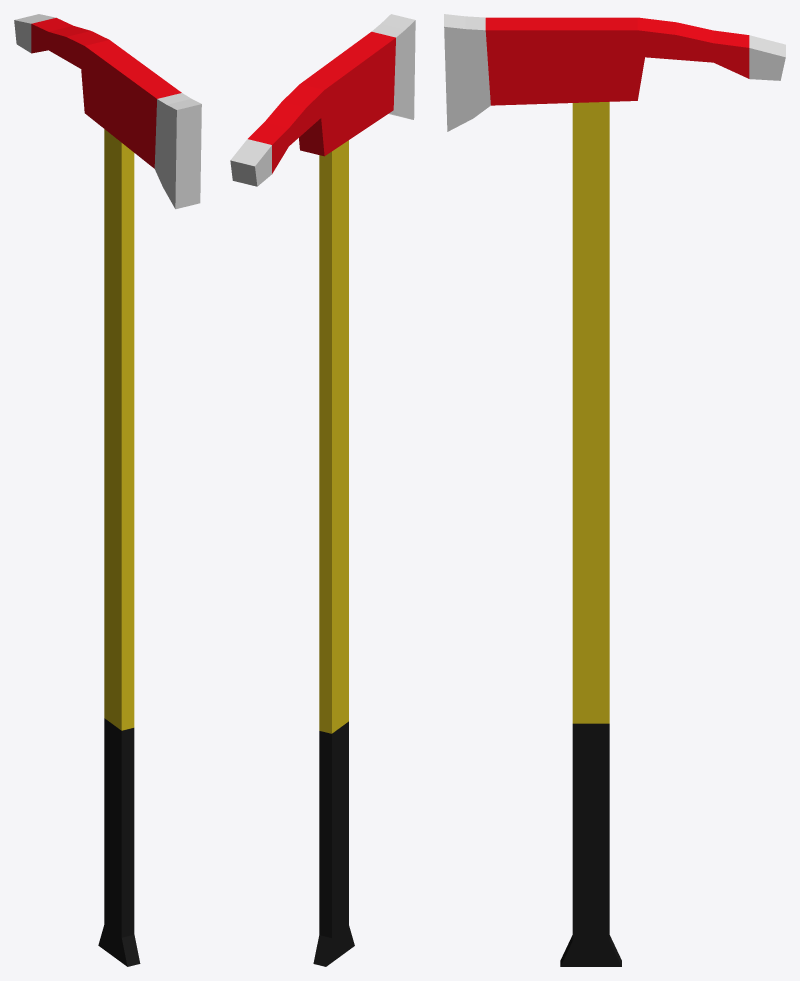
File: axe.glb
The picture shows the model from 3 angles, left to right: view 1: azimuth 30°, elevation 25°; view 2: azimuth 150°, elevation 25°; view 3: azimuth 270°, elevation 25°; orthographic projection. The views are drawn at different scales.
Visible parts, largest first — view 1: Рукоятка, Рубила; view 2: Рукоятка, Рубила; view 3: Рукоятка, Рубила.
Part boxes in pixels (x1=…): Рукоятка: x1=98, y1=129, x2=140, y2=966; Рубила: x1=14, y1=14, x2=201, y2=209; Рукоятка: x1=313, y1=140, x2=354, y2=966; Рубила: x1=230, y1=14, x2=415, y2=186; Рукоятка: x1=560, y1=102, x2=621, y2=966; Рубила: x1=444, y1=14, x2=785, y2=131.
Size of the model in its own units: 0.1264 by 4.35 by 1.43.
